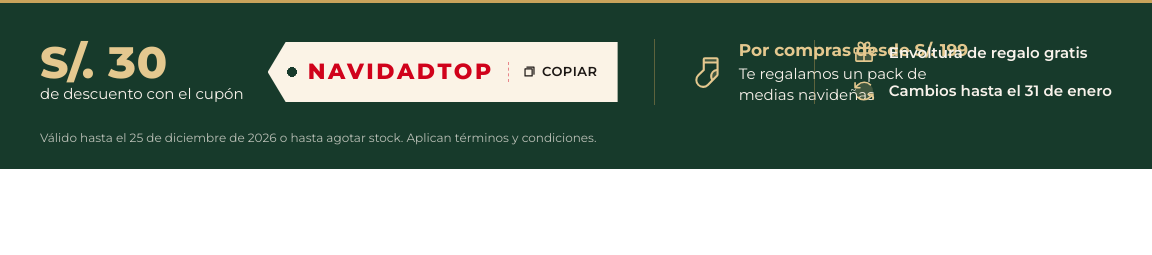
BandaCupon › explica qué hacer si el navegador no deja copiar
What coordinates should you click on to do the following:
click the button with aria-label "NAVIDADTOP, copiar cupón"
I would click on:
 (443, 72)
Its box is [268,42,618,102].
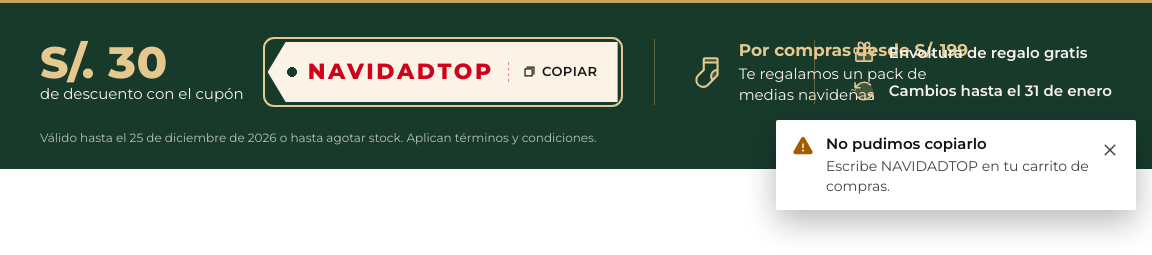
Check: the text "No pudimos copiarlo" is shown, box [826,134,987,153]
Check: the text "Escribe NAVIDADTOP en tu carrito de compras." is shown, box [826,156,1090,196]
